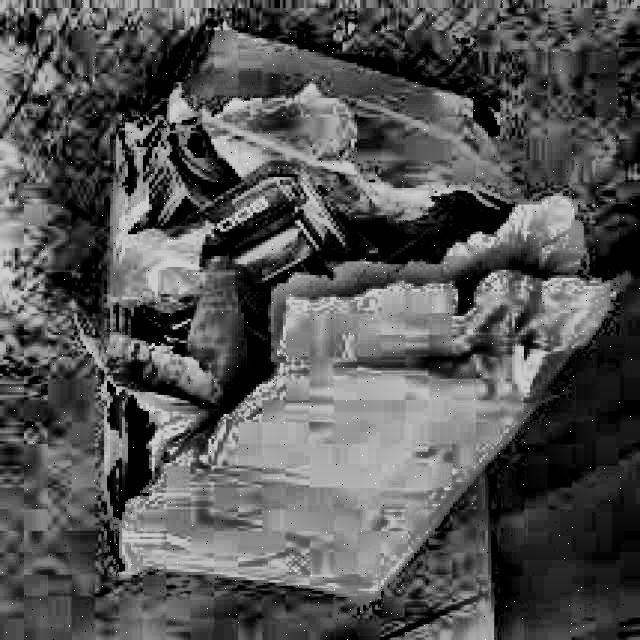box: (96, 49, 588, 598)
hole: (110, 104, 523, 512)
